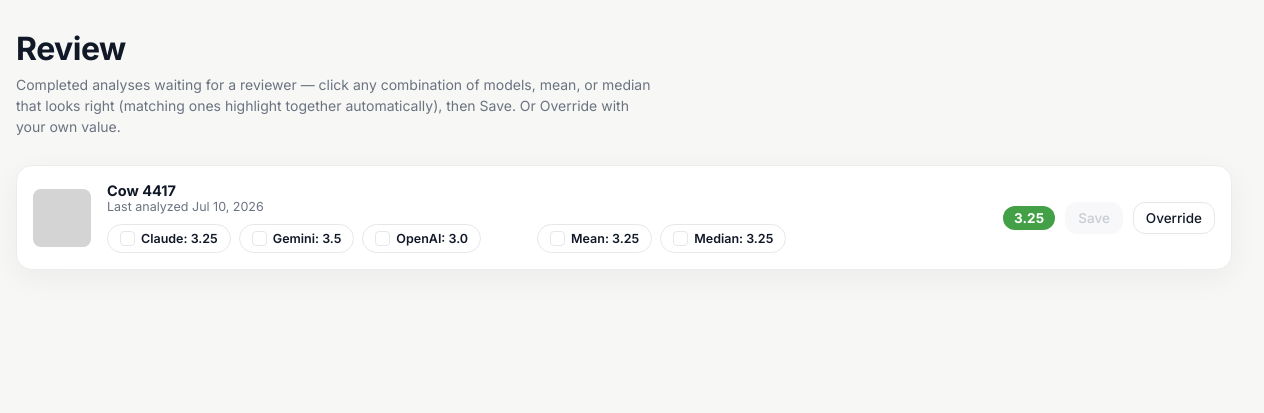
Scenario: ReviewPage › removes a saved row from the cache immediately, without refetching the list
The image size is (1264, 413).
Expected: the text "Cow 4417" is shown, [107,182,176,199]
Step 1. Click the button "Claude: 3.25" → coordinates (169, 238), box [107,224,231,253]
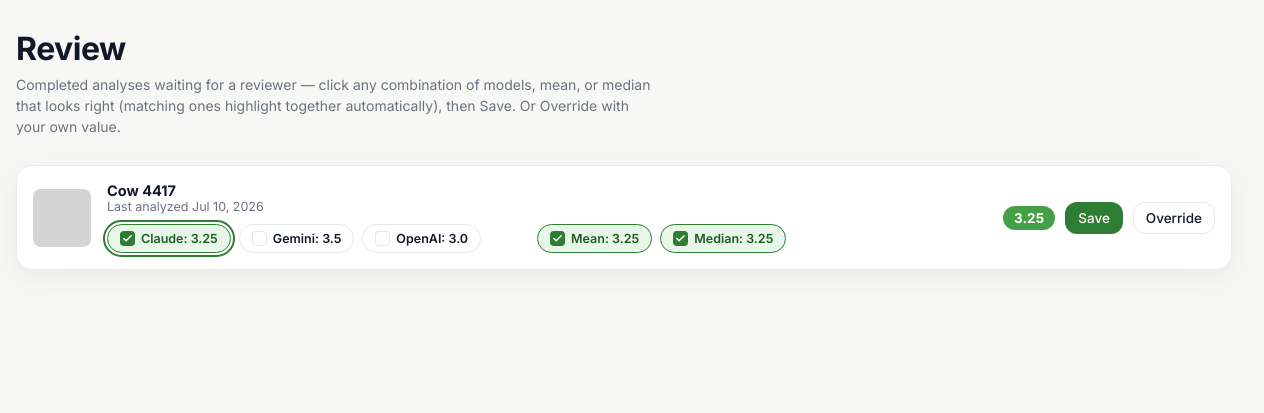
Step 2. Click the button "Save" → coordinates (1094, 218), box [1065,202,1123,234]
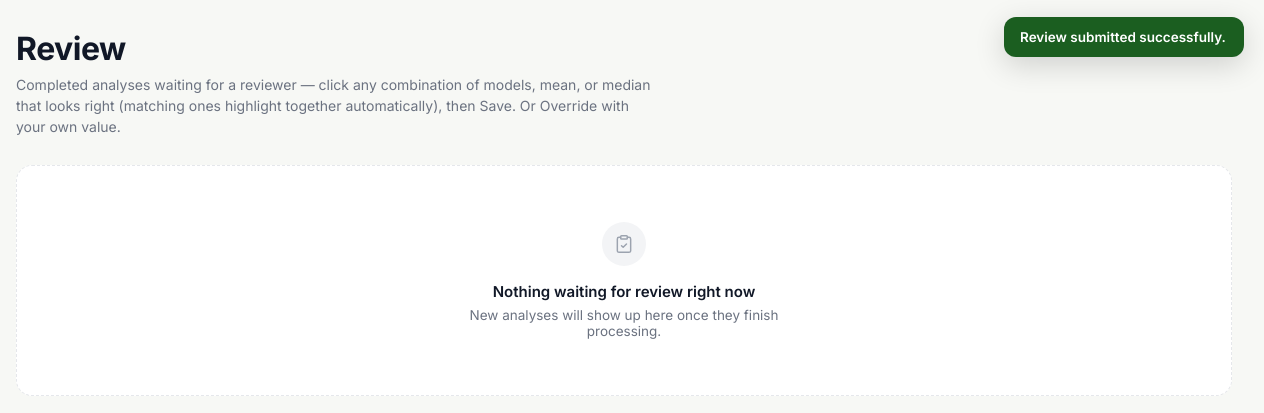
Expected: the text "Cow 4417" is gone
